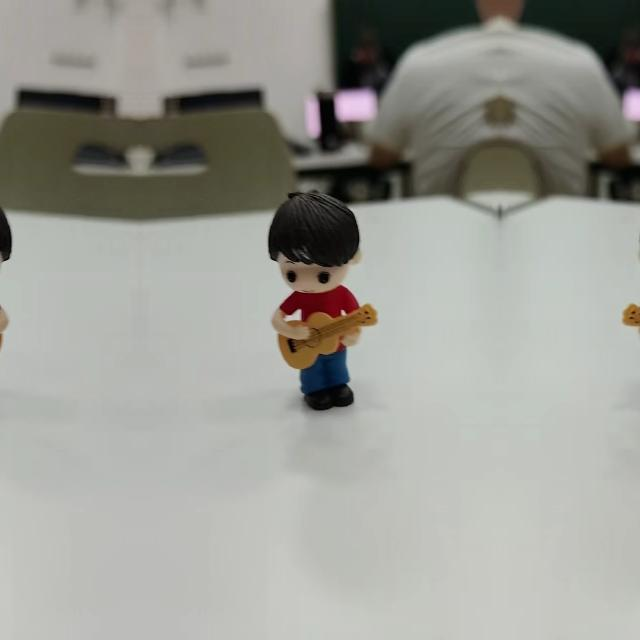man cloth: (281, 290, 361, 324), (639, 289, 640, 324)
man head: (268, 187, 360, 296), (0, 186, 12, 295), (639, 186, 640, 295)
trousers: (298, 344, 358, 414)
